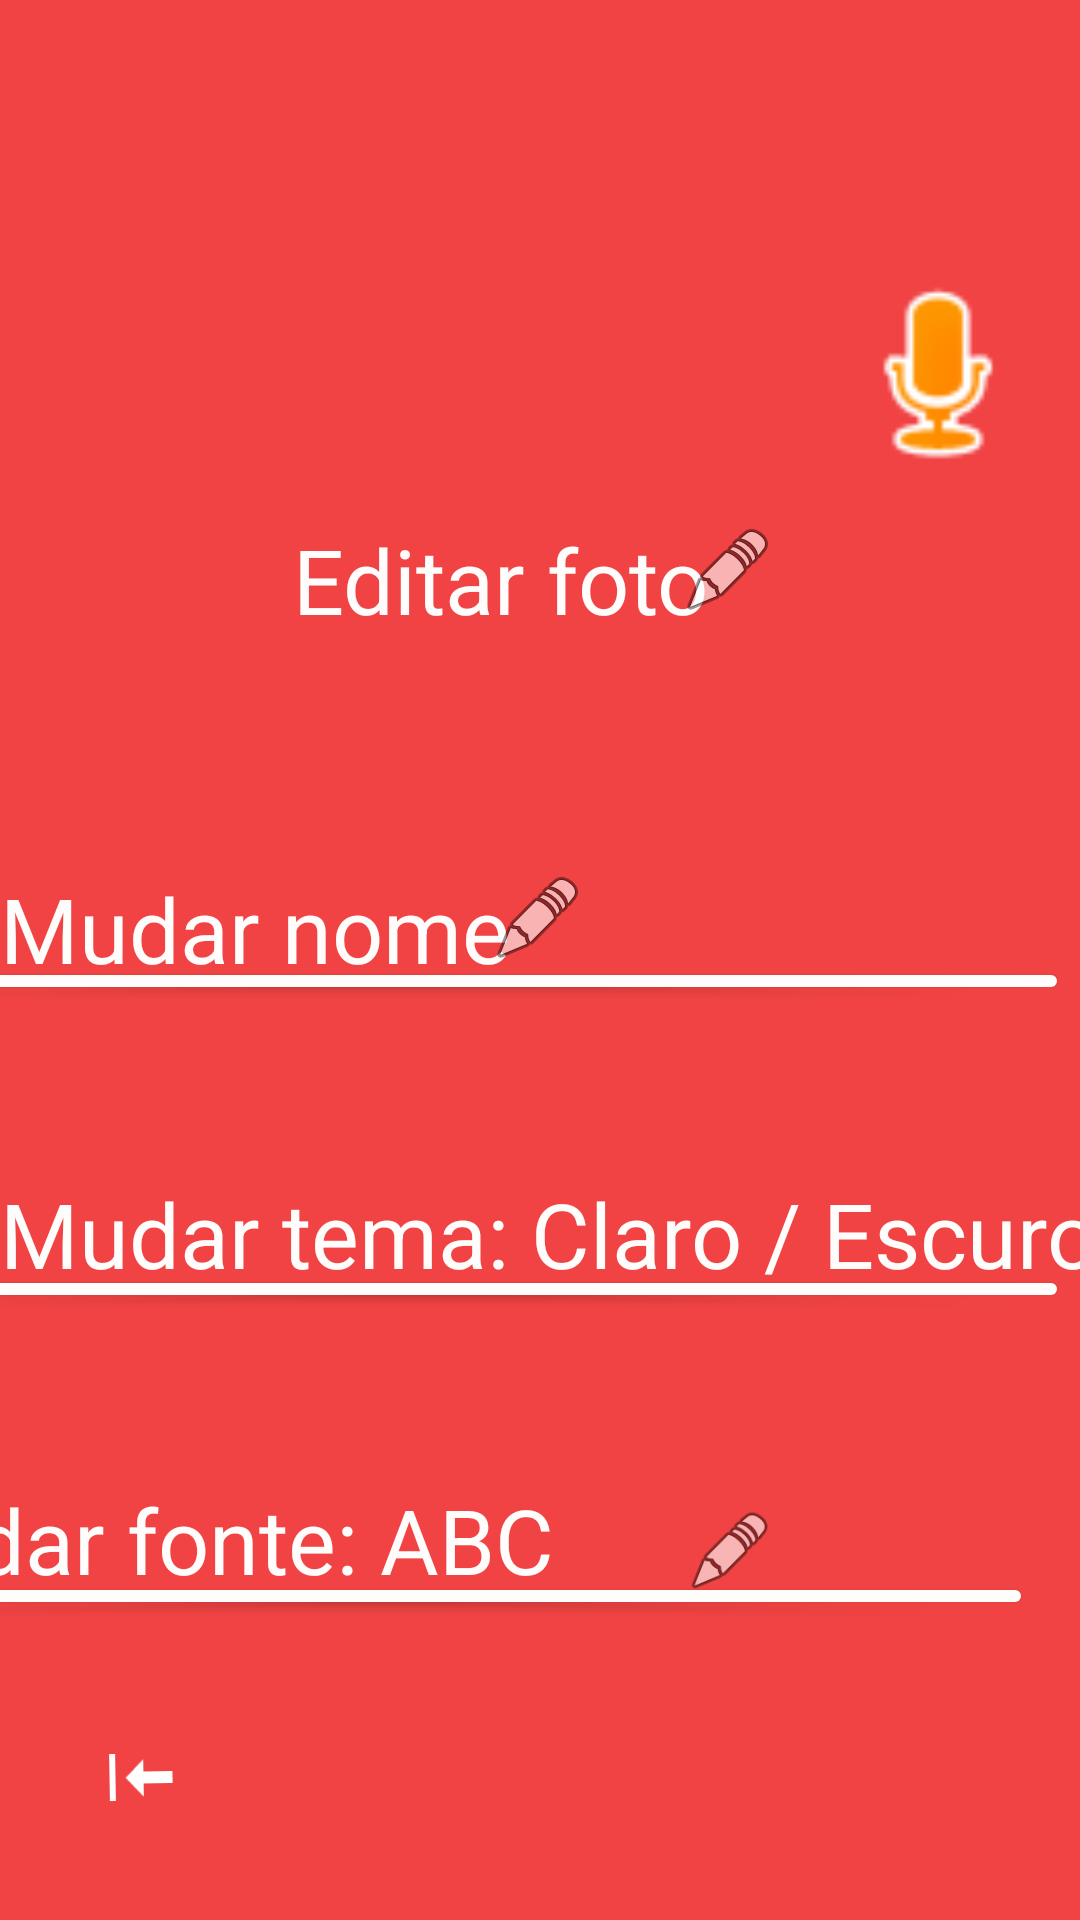

Named icons in this screenshot (1080*1920) and their centers, point (x, y):
presence audio away: point (938, 374)
